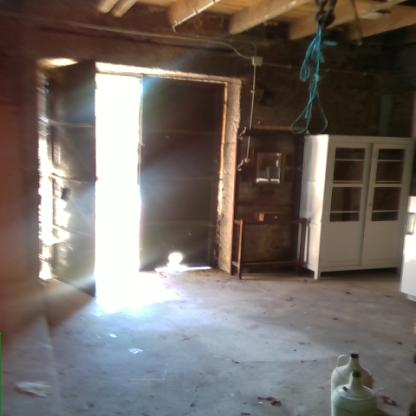semi: (30, 55, 249, 286)
